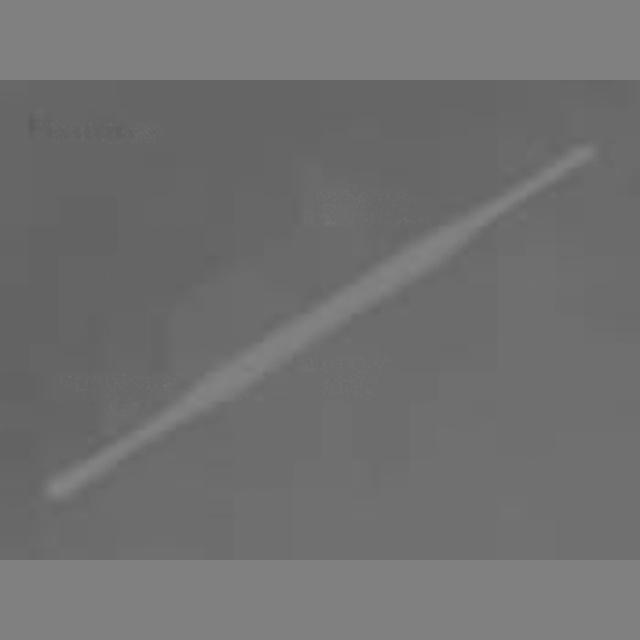elevador: (44, 146, 596, 506)
